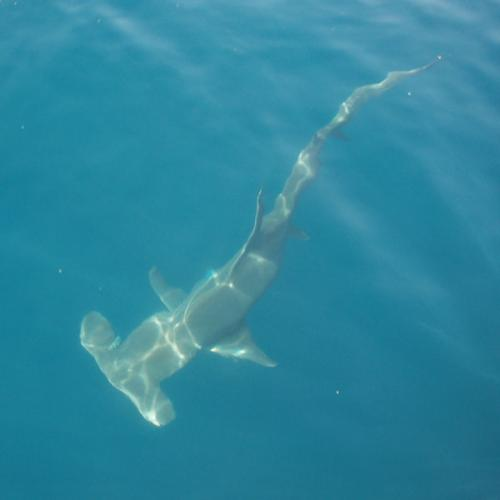shark-endangered: (79, 49, 445, 425)
